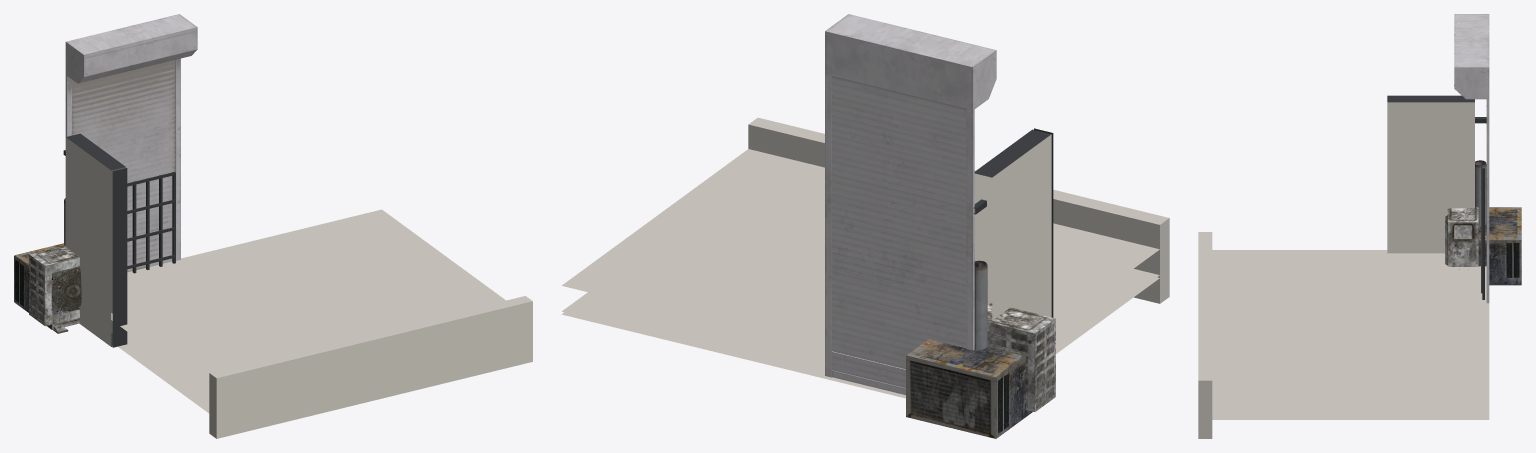
Rendered from common.glb.
The picture shows the model from 3 angles, left to right: view 1: azimuth 30°, elevation 25°; view 2: azimuth 150°, elevation 25°; view 3: azimuth 270°, elevation 25°; orthographic projection. The views are drawn at different scales.
Parts seen in each view (by area): view 1: common_canopy, common_shutter, common_sign_blade, common_ac_split, common_bars, common_ac_window; view 2: common_canopy, common_shutter, common_sign_blade, common_ac_window, common_ac_split, common_downpipe; view 3: common_canopy, common_sign_blade, common_shutter, common_ac_window, common_ac_split, common_bars, common_downpipe.
Part boxes in pixels (box(x1,y1,x2,y2)): common_canopy: box(111, 209, 532, 438); common_shutter: box(65, 14, 197, 272); common_sign_blade: box(63, 133, 127, 347); common_ac_split: box(29, 245, 81, 333); common_bars: box(127, 172, 175, 273); common_ac_window: box(14, 243, 79, 329); common_canopy: box(561, 117, 1169, 398); common_shutter: box(825, 14, 996, 394); common_sign_blade: box(973, 128, 1053, 320); common_ac_window: box(906, 339, 1035, 438); common_ac_split: box(987, 303, 1055, 411); common_downpipe: box(974, 260, 987, 349); common_canopy: box(1198, 232, 1489, 438); common_sign_blade: box(1387, 95, 1486, 253); common_shutter: box(1454, 14, 1489, 303); common_ac_window: box(1478, 207, 1521, 285); common_ac_split: box(1445, 206, 1480, 269); common_bars: box(1481, 161, 1484, 299); common_downpipe: box(1475, 160, 1486, 225).
Size of what is drawn, in the model's own units: 3.4 by 2.6 by 2.76.
9 materials, 6 textured.
